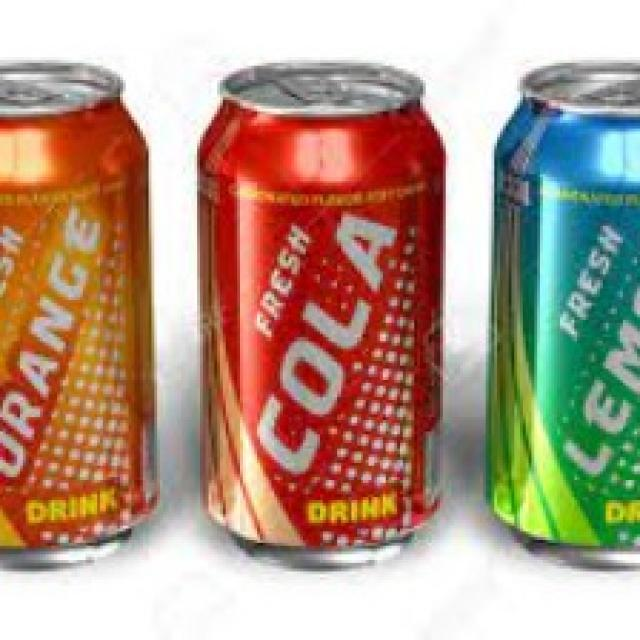metel: (201, 51, 448, 565)
